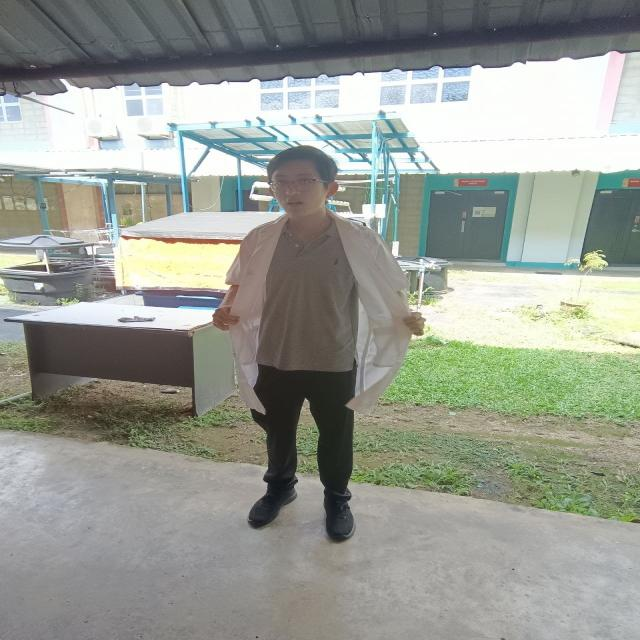person_without_labcoat: (214, 146, 423, 540)
